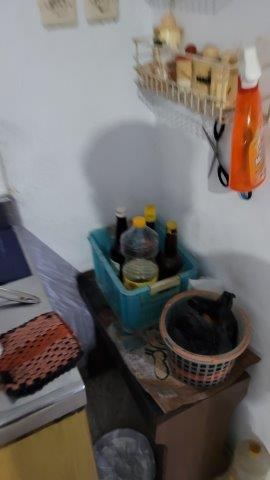botolkaca: (104, 202, 185, 297)
